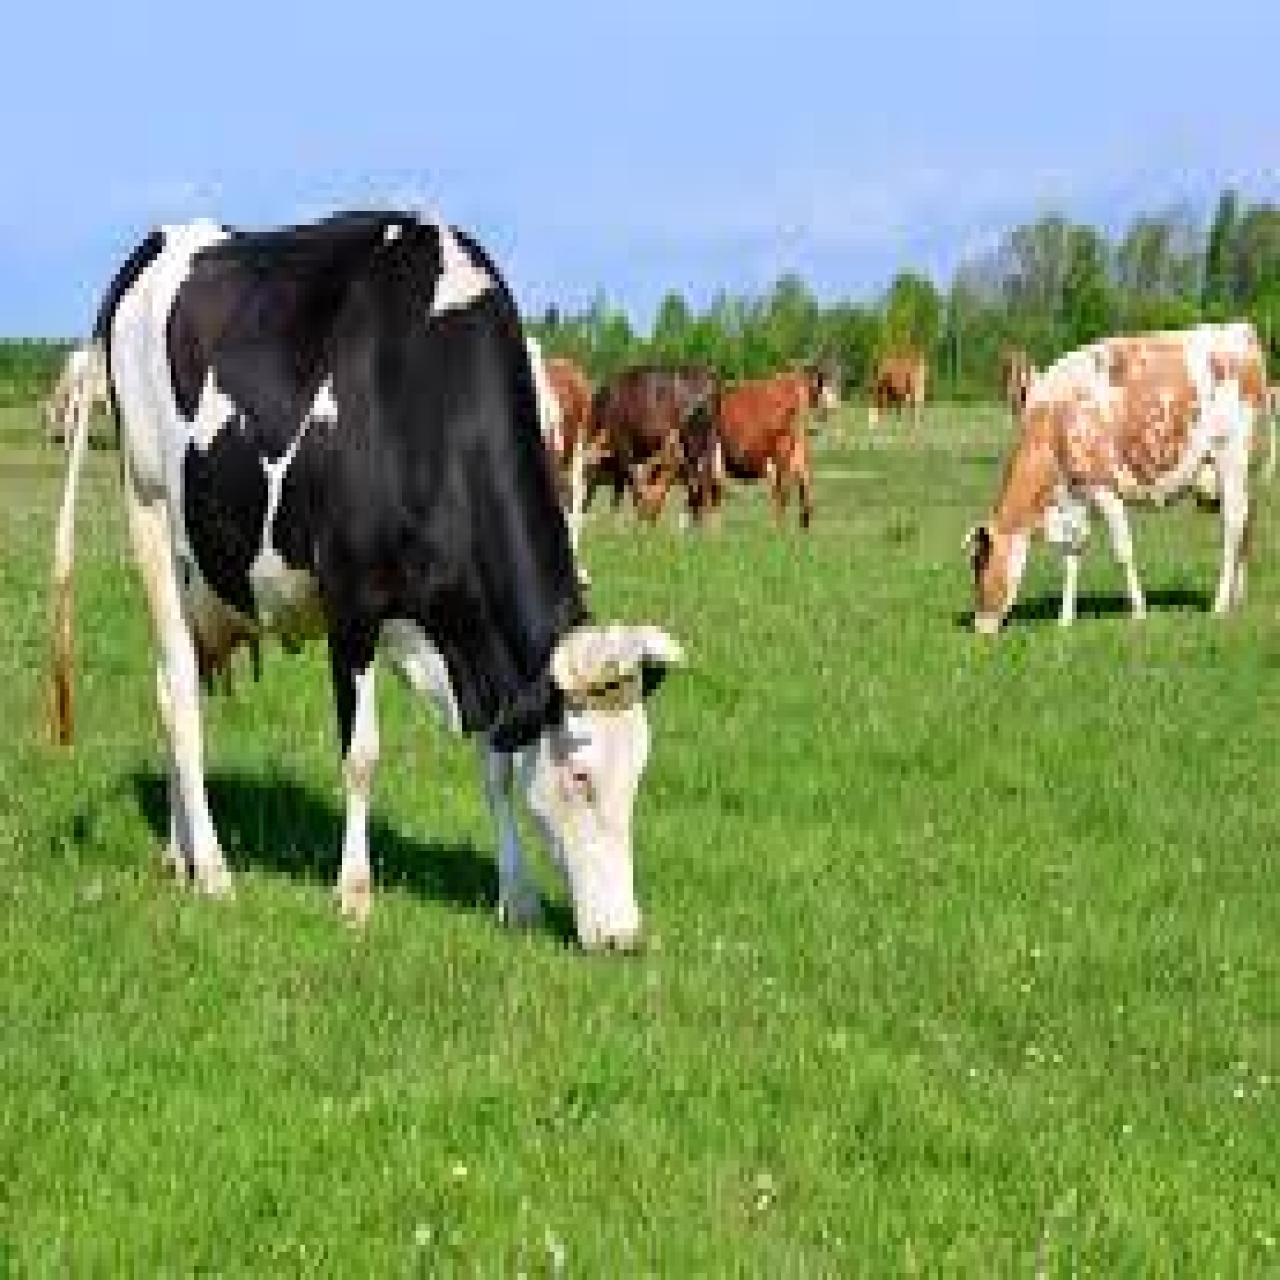cow: (90, 207, 649, 960), (966, 313, 1266, 636), (688, 376, 809, 538), (871, 352, 927, 429)
